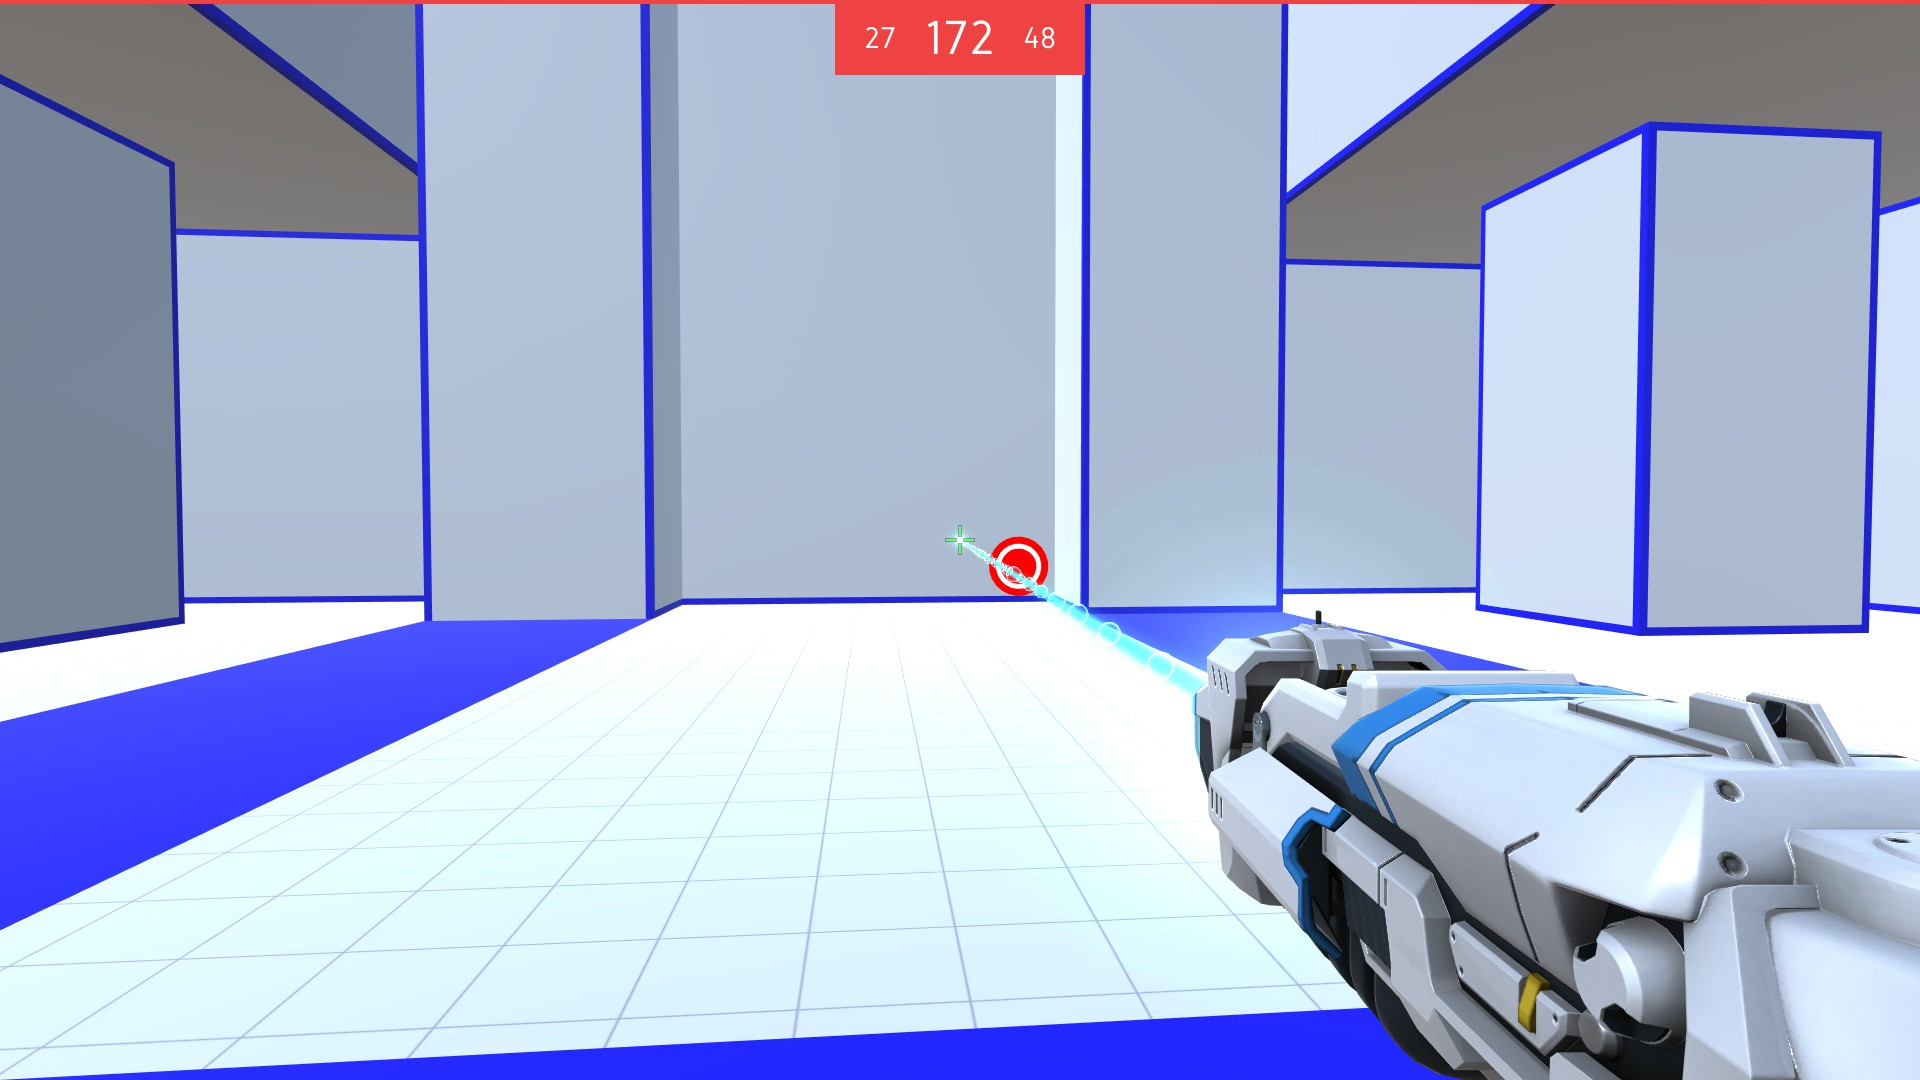target: (986, 537, 1052, 597)
